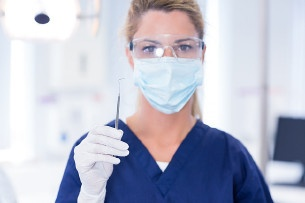Mask: (131, 34, 208, 110)
